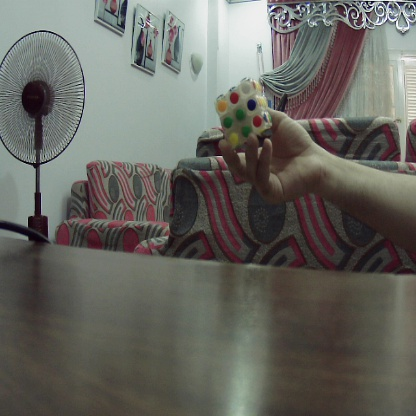Rubix Cube: (218, 81, 271, 145)
